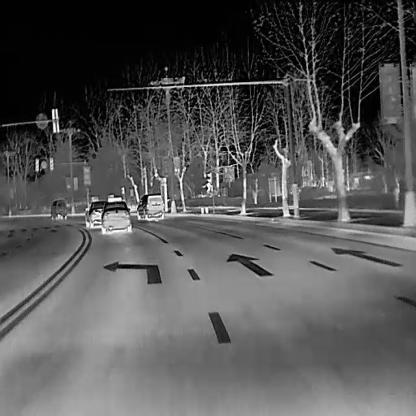car: (100, 196, 131, 233), (136, 193, 165, 220), (84, 199, 105, 229), (50, 198, 69, 218)
